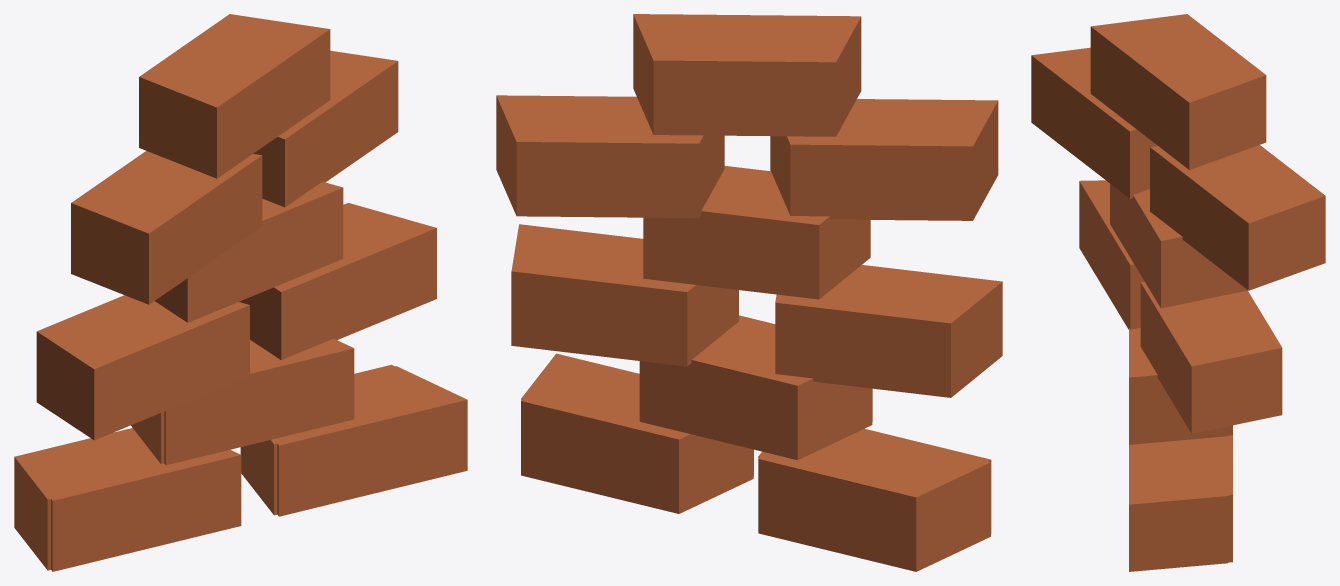
The model's file is Ingot_Copper.fbx.
The picture shows the model from 3 angles, left to right: view 1: azimuth 30°, elevation 25°; view 2: azimuth 150°, elevation 25°; view 3: azimuth 270°, elevation 25°; orthographic projection. The views are drawn at different scales.
Visible parts, largest first — view 1: Ingot_Copper__Stack, Ingot_Copper; view 2: Ingot_Copper__Stack, Ingot_Copper; view 3: Ingot_Copper__Stack, Ingot_Copper.
Part boxes in pixels (left/top/right/bottom): Ingot_Copper__Stack: left=14, top=14, right=447, bottom=570; Ingot_Copper: left=19, top=338, right=467, bottom=571; Ingot_Copper__Stack: left=496, top=14, right=1002, bottom=571; Ingot_Copper: left=521, top=315, right=991, bottom=533; Ingot_Copper__Stack: left=1031, top=14, right=1325, bottom=562; Ingot_Copper: left=1129, top=328, right=1227, bottom=571.
Bounding box in the file's own units: 0.1113 × 0.1125 × 0.0714.
